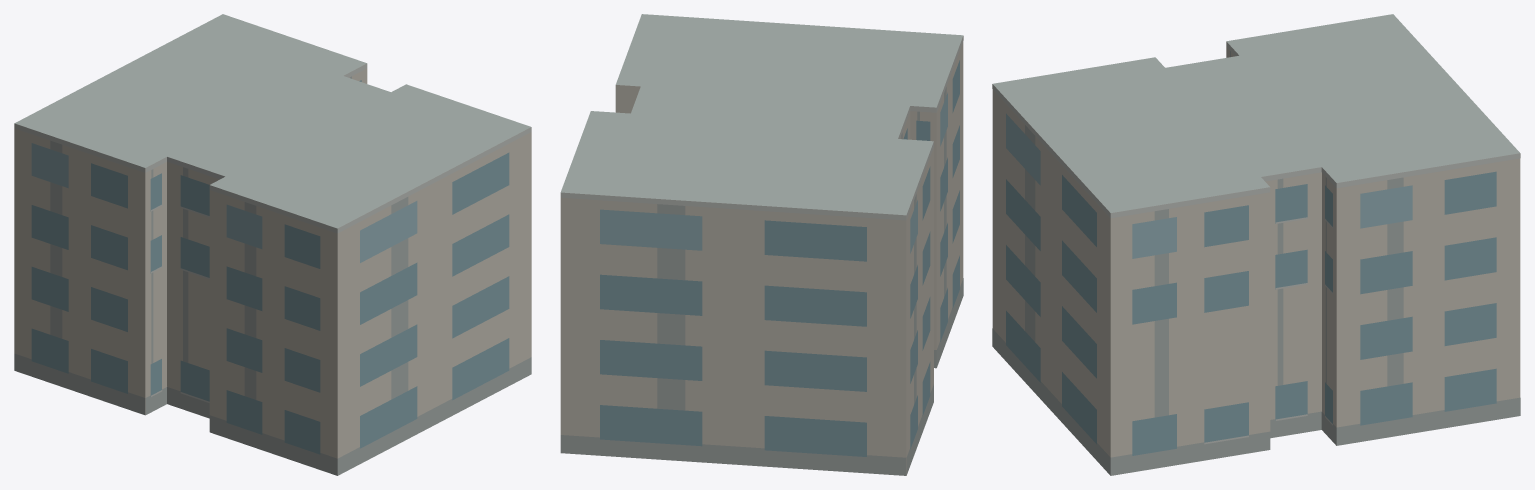
Rendered from residential-283d6874-d2f9-4715-b38e-27893e667c34.glb.
3 views of the same model, side by side, from view 1: azimuth 30°, elevation 25°; view 2: azimuth 150°, elevation 25°; view 3: azimuth 270°, elevation 25° (orthographic). The views are drawn at different scales.
Visible parts, largest first — view 1: residential-283d6874-d2f9-4715-b38e-27893e667c34.tmp; view 2: residential-283d6874-d2f9-4715-b38e-27893e667c34.tmp; view 3: residential-283d6874-d2f9-4715-b38e-27893e667c34.tmp.
Boxes of the visible parts, x1,y1,x2,y2 form: residential-283d6874-d2f9-4715-b38e-27893e667c34.tmp: (14,14,531,475); residential-283d6874-d2f9-4715-b38e-27893e667c34.tmp: (560,14,963,475); residential-283d6874-d2f9-4715-b38e-27893e667c34.tmp: (992,14,1520,475).
Bounding box in the file's own units: 19.84 × 12.2 × 22.23.
